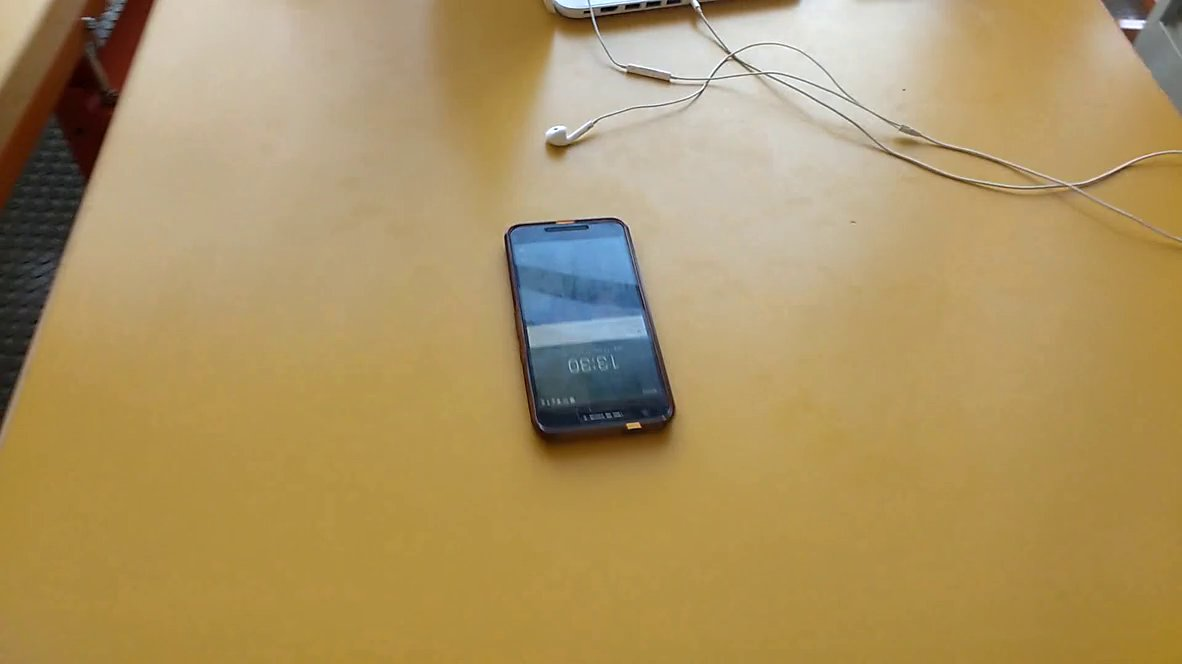phone: (491, 208, 687, 456)
